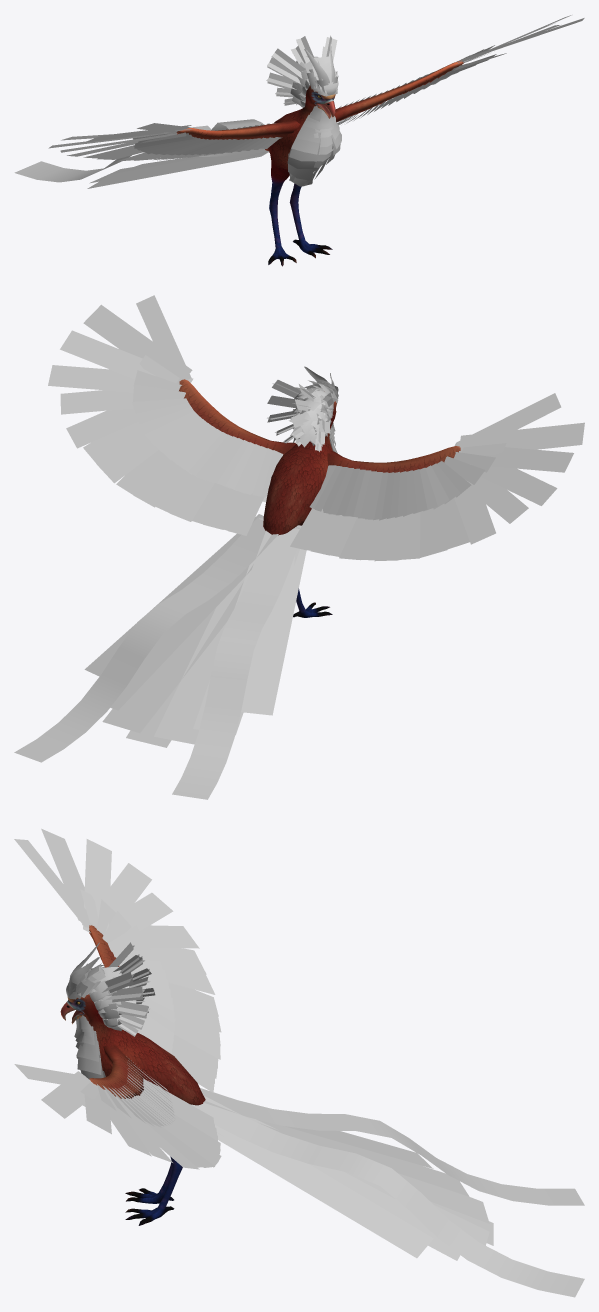
Rendered from Model_Eternus.fbx.
3 renders of one model, top to bottom at view 1: azimuth 30°, elevation 25°; view 2: azimuth 150°, elevation 25°; view 3: azimuth 270°, elevation 25°, orthographic. The views are drawn at different scales.
Visible parts, largest first — view 1: Eternus_Body, WingFeathersLeft_Feathers_Mid (×2), WingFeathersLeft_Feathers_Bottom (×2), Eternus_Arms, group14_pPlane62, HeadFeathers, pPlane18, sweep2, HeadHair, group13_pPlane50, NucaHairRigh01_group18_pPlane92, sweep1 (+1 smaller); view 2: WingFeathersLeft_Feathers_Mid (×2), WingFeathersLeft_Feathers_Top (×2), sweep2, sweep1, Eternus_Body, pPlane18, pPlane101, pPlane16, Eternus_Arms, pPlane17, HeadFeathers, pPlane105 (+1 smaller); view 3: WingFeathersLeft_Feathers_Mid (×2), sweep1, WingFeathersLeft_Feathers_Top (×2), Eternus_Body, sweep2, pPlane105, HeadFeathers, pPlane84, Eternus_Arms, pPlane17, pPlane16, pPlane18 (+4 smaller).
Part boxes in pixels (x1,y1,x2,y2): Eternus_Body: (265, 85, 335, 266); WingFeathersLeft_Feathers_Mid (×2): (48, 15, 584, 161); WingFeathersLeft_Feathers_Bottom (×2): (133, 53, 506, 155); Eternus_Arms: (176, 60, 463, 139); group14_pPlane62: (287, 105, 341, 186); HeadFeathers: (266, 35, 337, 105); pPlane18: (87, 148, 268, 188); sweep2: (14, 148, 262, 182); HeadHair: (304, 43, 338, 96); group13_pPlane50: (289, 108, 334, 181); NucaHairRigh01_group18_pPlane92: (290, 61, 309, 107); sweep1: (190, 119, 263, 130); WingFeathersLeft_Feathers_Mid (×2): (48, 295, 584, 561); WingFeathersLeft_Feathers_Top (×2): (132, 355, 506, 520); sweep2: (172, 528, 299, 799); sweep1: (14, 518, 278, 762); Eternus_Body: (263, 401, 336, 617); pPlane18: (241, 549, 306, 715); pPlane101: (102, 516, 299, 733); pPlane16: (154, 518, 301, 744); Eternus_Arms: (179, 379, 460, 472); pPlane17: (110, 515, 263, 710); HeadFeathers: (267, 380, 336, 451); pPlane105: (84, 514, 263, 676); WingFeathersLeft_Feathers_Mid (×2): (14, 828, 221, 1169); sweep1: (192, 1095, 584, 1297); WingFeathersLeft_Feathers_Top (×2): (80, 889, 175, 1127); Eternus_Body: (60, 994, 205, 1225); sweep2: (200, 1088, 584, 1205); pPlane105: (215, 1125, 433, 1258); HeadFeathers: (102, 942, 155, 1036); pPlane84: (190, 1104, 469, 1196); Eternus_Arms: (89, 925, 143, 1098); pPlane17: (217, 1132, 460, 1260); pPlane16: (398, 1173, 489, 1223); pPlane18: (283, 1126, 433, 1168).
Size of the model in its own units: 19.02 by 9.19 by 16.19.
